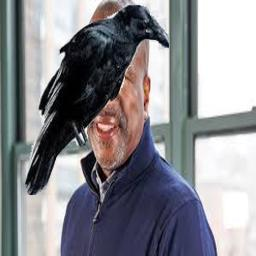Crow: (24, 3, 169, 195)
